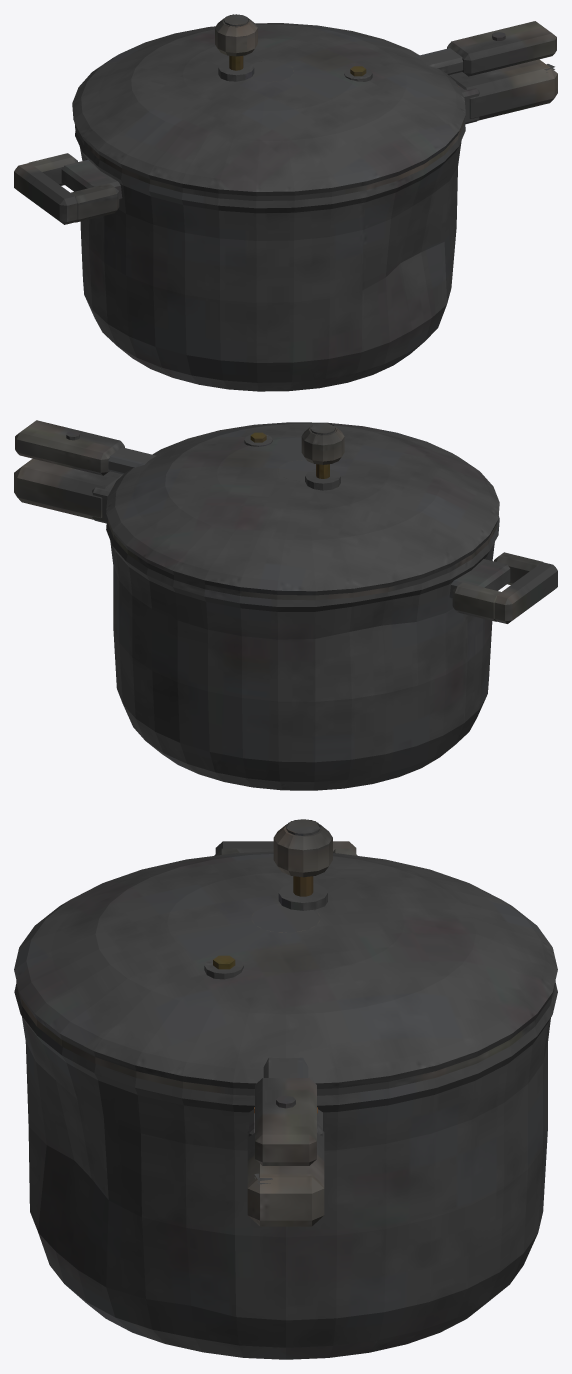
File: K05_pressure_cooker.glb
3 renders of one model, top to bottom at view 1: azimuth 30°, elevation 25°; view 2: azimuth 150°, elevation 25°; view 3: azimuth 270°, elevation 25°, orthographic. The views are drawn at different scales.
Parts seen in each view (by area): view 1: Dented aluminium vessel; view 2: Dented aluminium vessel; view 3: Dented aluminium vessel.
Part boxes in pixels (box(x1,y1,x2,y2)): Dented aluminium vessel: box(14, 14, 557, 391); Dented aluminium vessel: box(14, 420, 557, 790); Dented aluminium vessel: box(14, 819, 557, 1359).
Bounding box in the file's own units: 0.3 × 0.1757 × 0.2003.
4 materials, 4 textured.
